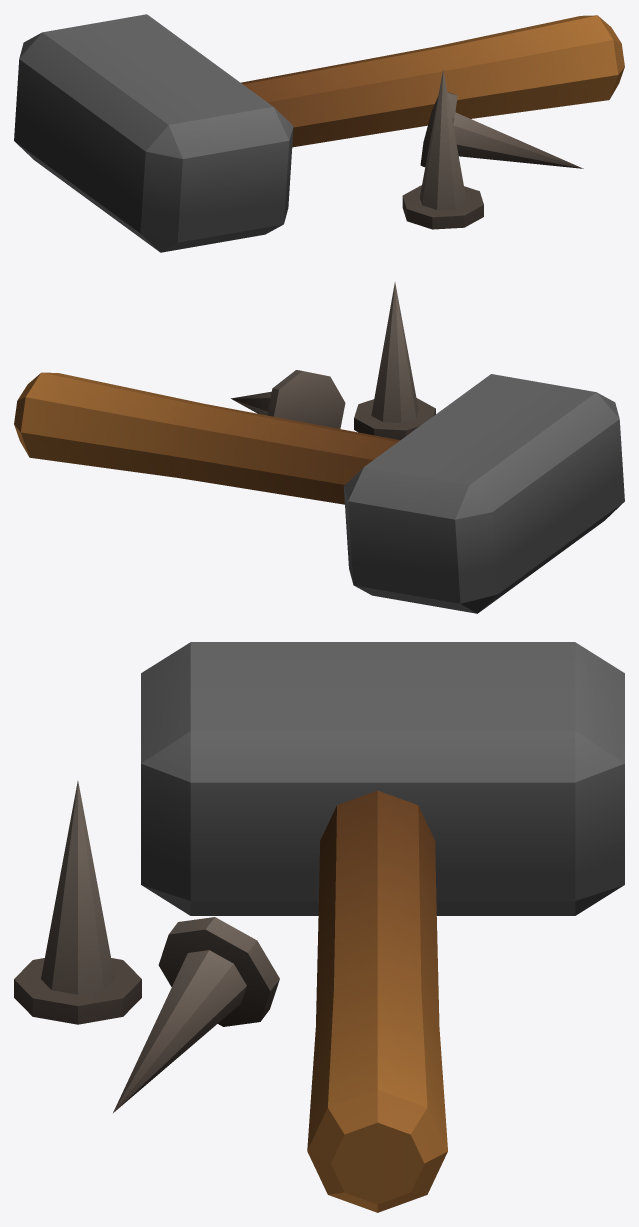
Rendered from obj_Hammer.fbx.
3 renders of one model, top to bottom at view 1: azimuth 30°, elevation 25°; view 2: azimuth 150°, elevation 25°; view 3: azimuth 270°, elevation 25°, orthographic. The views are drawn at different scales.
Visible parts, largest first — view 1: obj_Hammer; view 2: obj_Hammer; view 3: obj_Hammer.
Part boxes in pixels (<box>): obj_Hammer: <box>14,14,624,252</box>; obj_Hammer: <box>14,282,624,613</box>; obj_Hammer: <box>14,642,624,1212</box>.
Bounding box in the file's own units: 34.75 × 10.25 × 22.73.
